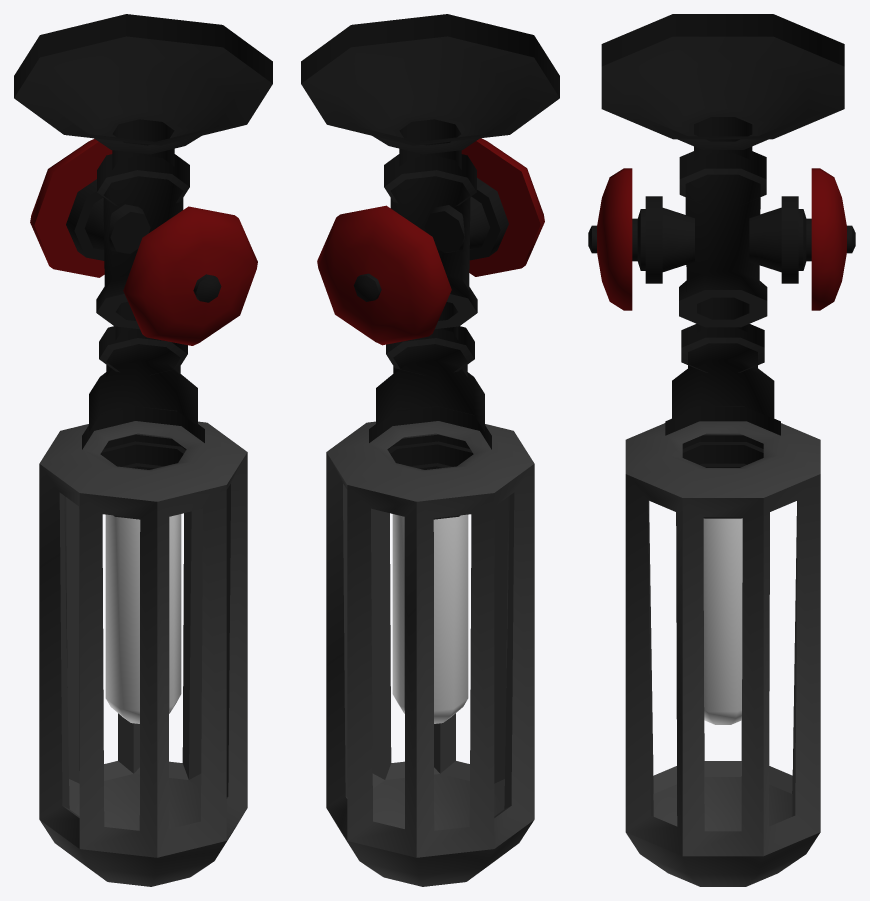
The model's file is DecorLightDHLight.fbx.
3 views of the same model, side by side, from view 1: azimuth 30°, elevation 25°; view 2: azimuth 150°, elevation 25°; view 3: azimuth 270°, elevation 25° (orthographic).
Visible parts, largest first — view 1: DecorLightDHLight; view 2: DecorLightDHLight; view 3: DecorLightDHLight.
Part boxes in pixels (box(x1,y1,x2,y2)): DecorLightDHLight: box(14, 14, 272, 886); DecorLightDHLight: box(301, 14, 559, 886); DecorLightDHLight: box(588, 14, 855, 886).
Size of the model in its own units: 8.32 by 30.52 by 9.16.
